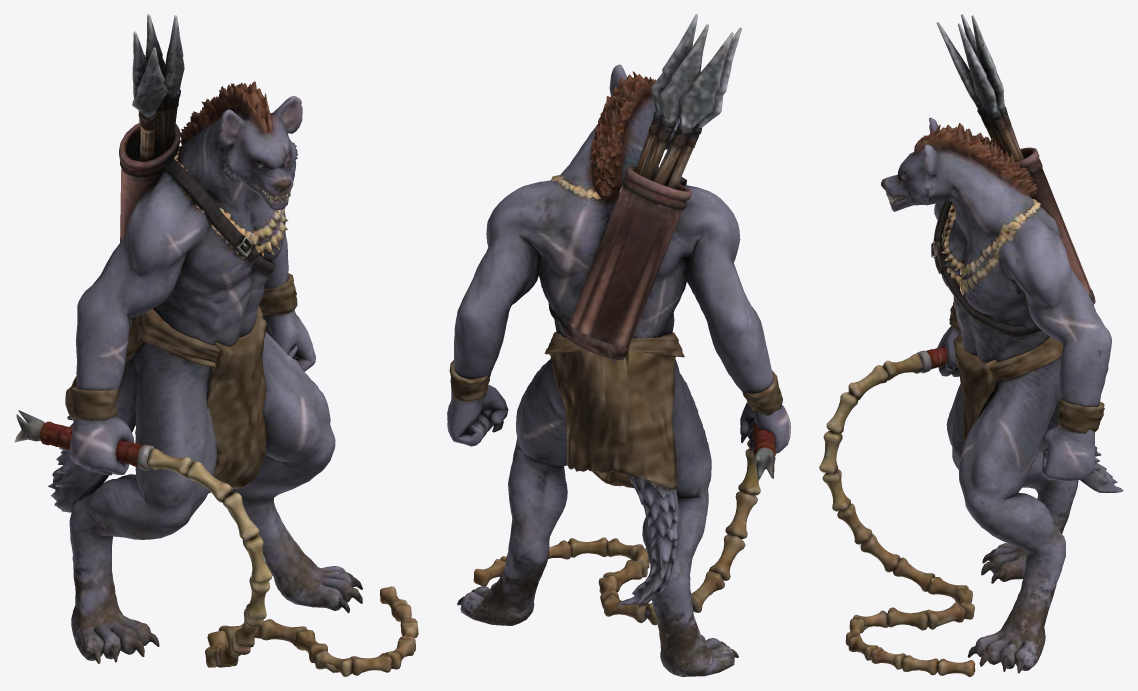
The model's file is MZ4250 - Gnoll Pack Lord_2025.glb.
3 renders of one model, left to right at view 1: azimuth 30°, elevation 25°; view 2: azimuth 150°, elevation 25°; view 3: azimuth 270°, elevation 25°, orthographic. The views are drawn at different scales.
Visible parts, largest first — view 1: Body.001; view 2: Body.001; view 3: Body.001.
Part boxes in pixels (x1=…): Body.001: x1=14, y1=14, x2=418, y2=676; Body.001: x1=447, y1=14, x2=790, y2=676; Body.001: x1=819, y1=14, x2=1123, y2=676.
Size of the model in its own units: 74.04 by 132 by 64.88.
Materials: 4 (4 with a texture image).
